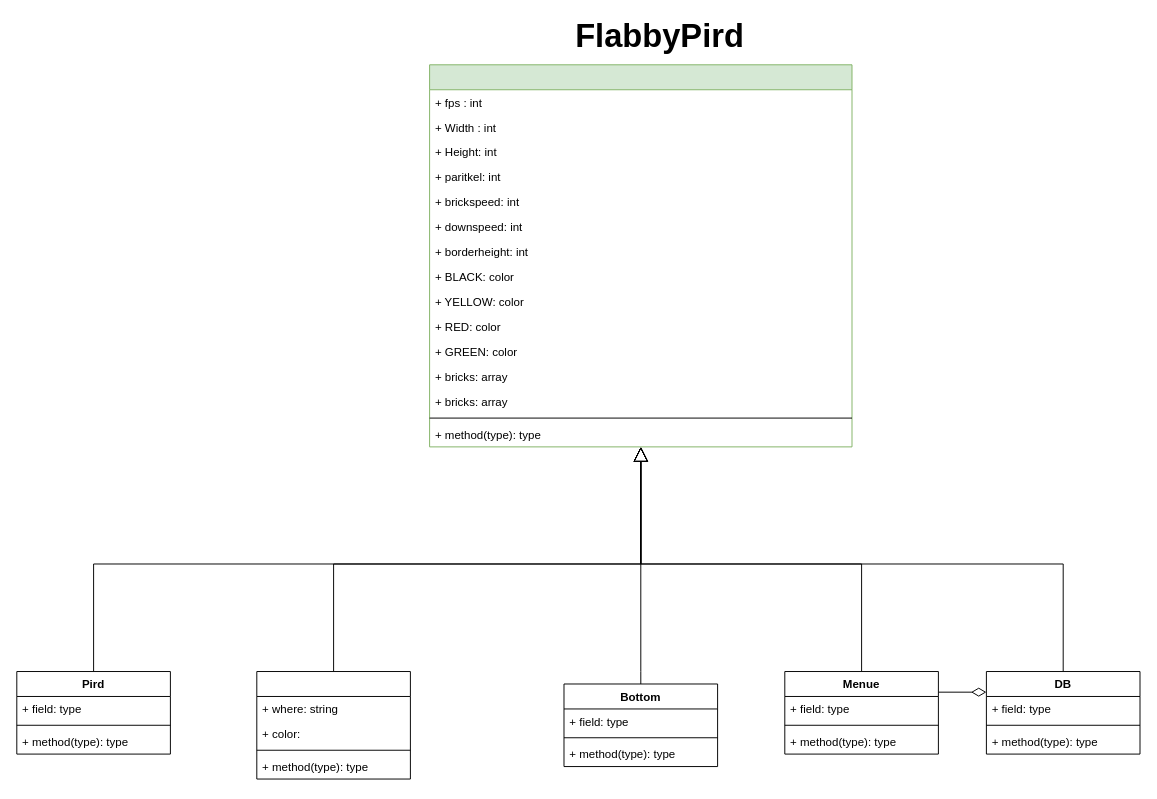
Some shapes in this 1157 by 799 pixel diagram are drawn without their labels. The box of each missing label's shape, as (x1, y1, x2, y2) in pixels:
Bricks: (256, 671, 410, 779)
Game: (429, 64, 852, 447)
